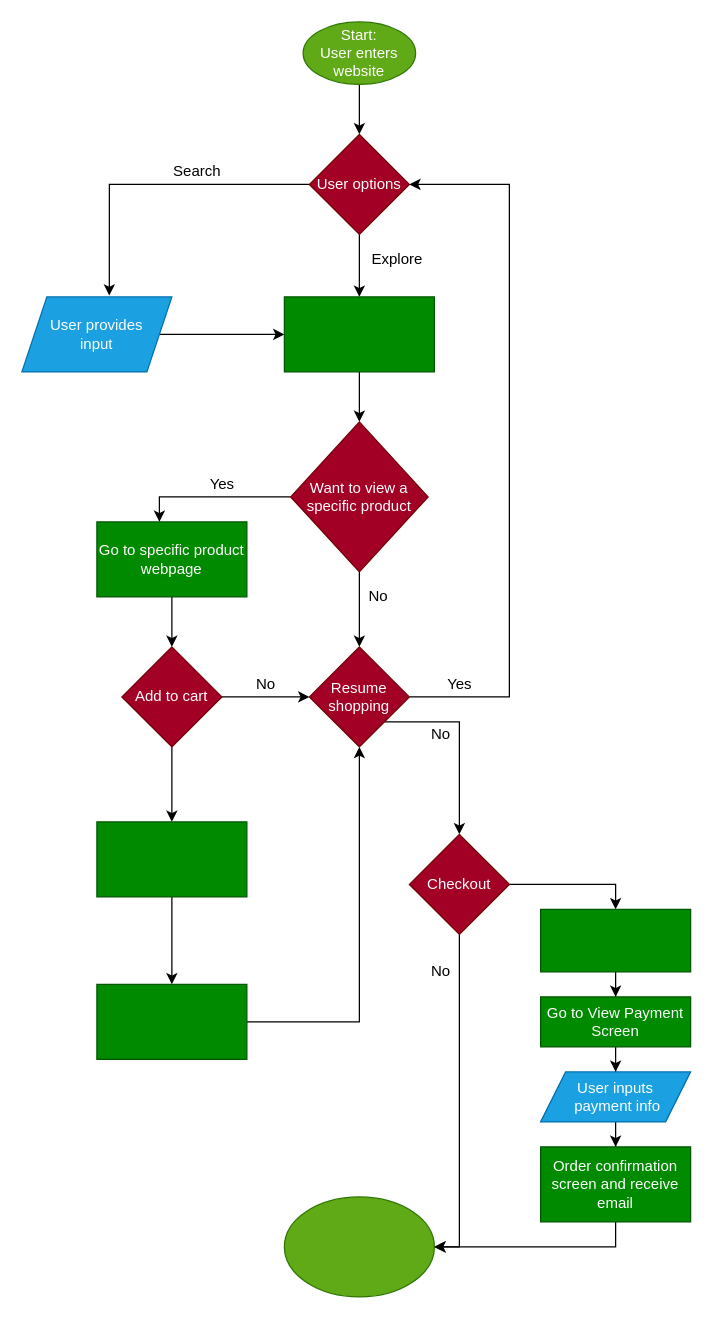
The diagram is 713 pixels wide and 1319 high, and some of its shapes have lost their labels. The shapes that lost their labels are listed below. From the top down, each one's centre as x and y in pixels, then its label:
the point at 358,334: User begins to look over product
the point at 171,859: Add to cart confirmation
the point at 615,940: Reach View Cart screen
the point at 171,1021: Add item to cart
the point at 358,1246: End: Leave the website
